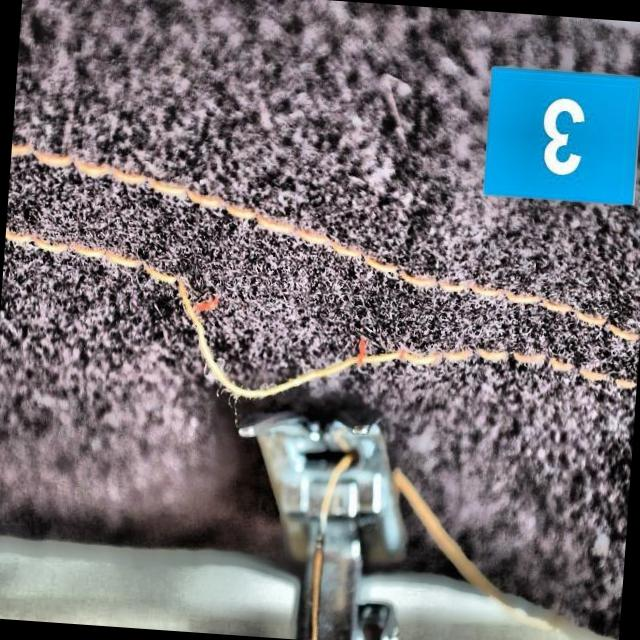gray stitch: (152, 229, 458, 439)
